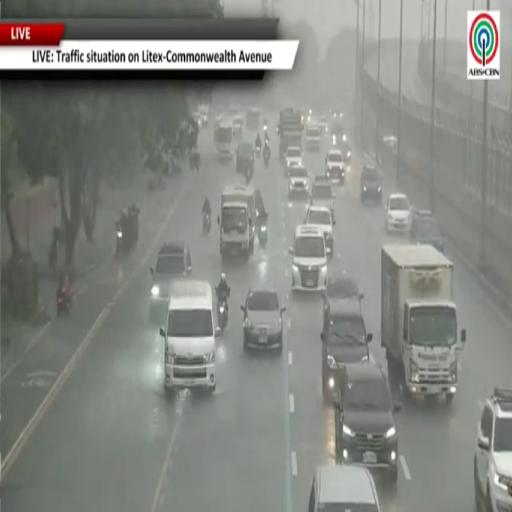car: (334, 362, 400, 484), (160, 281, 220, 392), (321, 296, 372, 396), (474, 389, 511, 511), (308, 466, 380, 511), (150, 243, 191, 317), (241, 290, 285, 351), (289, 226, 327, 291), (409, 210, 445, 254), (324, 275, 363, 314), (306, 205, 335, 257), (385, 194, 411, 233), (310, 178, 335, 218), (360, 163, 382, 203), (331, 134, 351, 169), (325, 149, 345, 184), (288, 166, 309, 198), (236, 142, 254, 173), (306, 122, 321, 151), (285, 147, 302, 171), (340, 136, 351, 167), (246, 108, 260, 130), (331, 117, 345, 139), (198, 103, 209, 126), (233, 115, 244, 136), (192, 111, 204, 127), (318, 116, 328, 134), (330, 108, 343, 120)
motorcycle: (115, 223, 134, 257), (57, 288, 73, 316), (256, 210, 267, 246), (48, 238, 59, 273), (218, 299, 227, 332), (116, 226, 124, 257), (258, 222, 267, 246), (203, 213, 211, 235), (264, 148, 270, 167), (246, 166, 252, 184), (256, 146, 261, 157)
truck: (381, 245, 465, 402), (218, 186, 255, 259), (278, 108, 302, 162), (215, 119, 233, 161)
